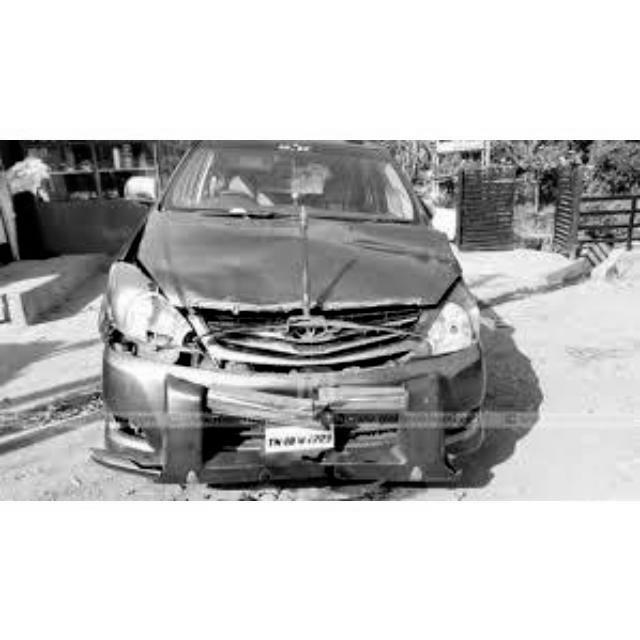Headlight-damage: (99, 264, 178, 366)
bonnet-dent: (142, 210, 454, 310)
front-bumper-dent: (86, 379, 501, 488)
